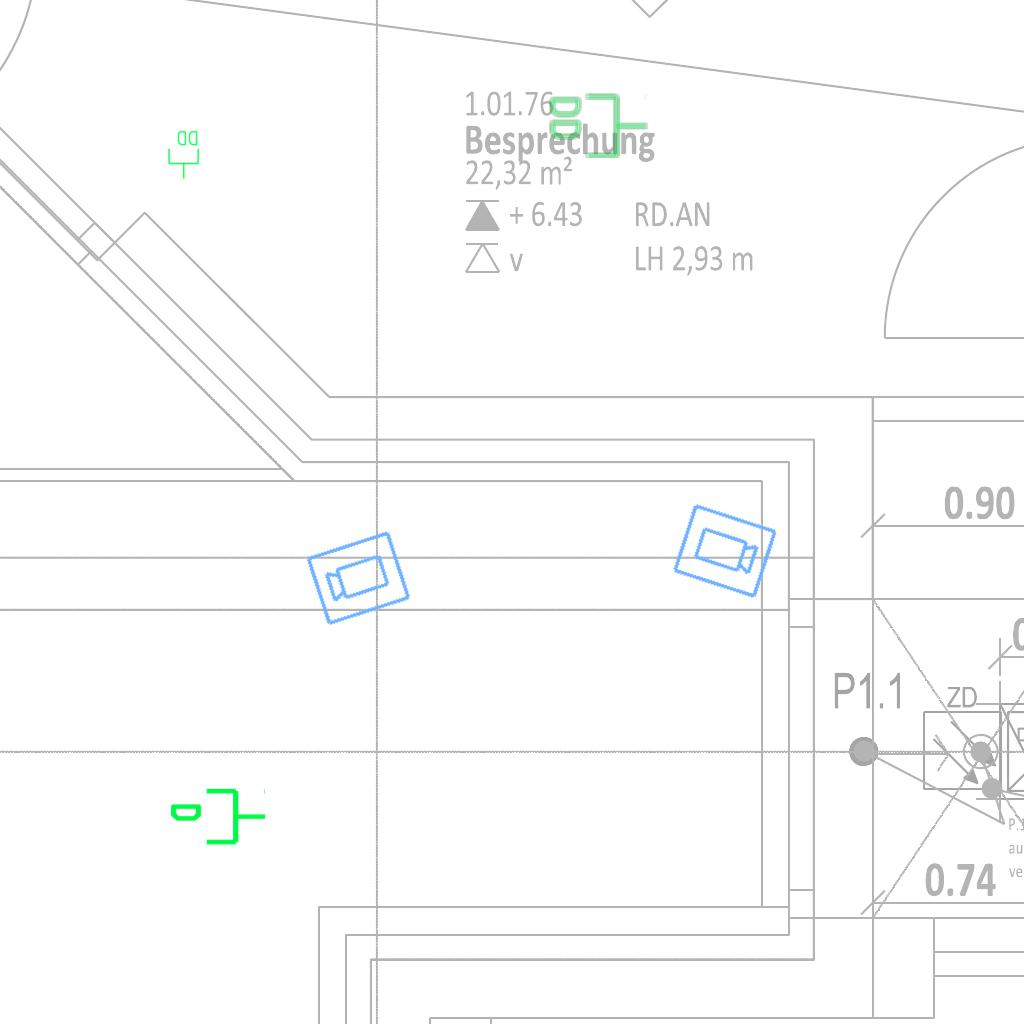Datenanschluss_einfach: (168, 784, 268, 853)
Datenanschluss_zweifach: (547, 91, 650, 160), (167, 129, 201, 180)
KFO_Kamera_mit_Festobjektiv: (303, 526, 414, 629), (669, 500, 780, 603)
